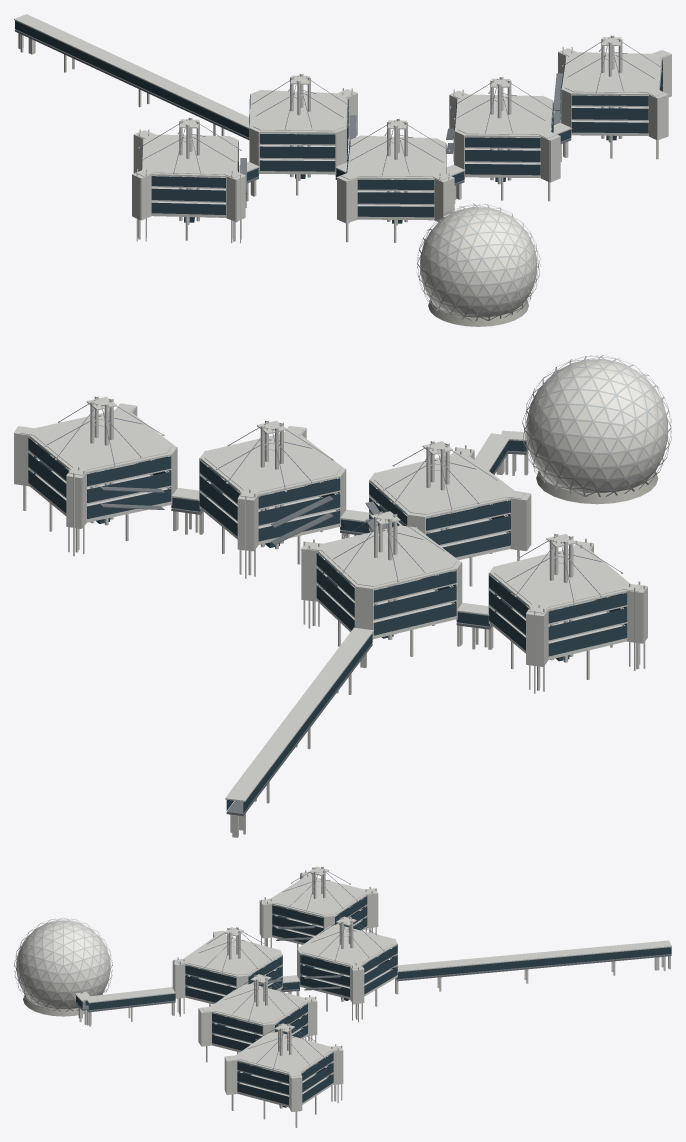
The model's file is cinesphere-far.glb.
3 renders of one model, top to bottom at view 1: azimuth 30°, elevation 25°; view 2: azimuth 150°, elevation 25°; view 3: azimuth 270°, elevation 25°, orthographic. The views are drawn at different scales.
Visible parts, largest first — view 1: cinesphere-0-white, cinesphere-0-glass, cinesphere-0-panel, cinesphere-0-frame, cinesphere-0-deck, cinesphere-0-cable, cinesphere-0-concrete; view 2: cinesphere-0-white, cinesphere-0-glass, cinesphere-0-panel, cinesphere-0-frame, cinesphere-0-deck, cinesphere-0-cable, cinesphere-0-concrete; view 3: cinesphere-0-white, cinesphere-0-glass, cinesphere-0-panel, cinesphere-0-frame, cinesphere-0-deck, cinesphere-0-cable, cinesphere-0-concrete.
Boxes of the visible parts, left/top/right/bottom form: cinesphere-0-white: left=14, top=14, right=671, bottom=245; cinesphere-0-glass: left=15, top=20, right=662, bottom=223; cinesphere-0-panel: left=420, top=207, right=537, bottom=317; cinesphere-0-frame: left=416, top=203, right=540, bottom=320; cinesphere-0-deck: left=15, top=29, right=571, bottom=207; cinesphere-0-cable: left=140, top=38, right=660, bottom=174; cinesphere-0-concrete: left=428, top=299, right=528, bottom=326; cinesphere-0-white: left=14, top=396, right=647, bottom=837; cinesphere-0-glass: left=28, top=437, right=627, bottom=812; cinesphere-0-panel: left=526, top=359, right=668, bottom=492; cinesphere-0-frame: left=522, top=355, right=671, bottom=496; cinesphere-0-deck: left=99, top=447, right=528, bottom=816; cinesphere-0-cable: left=47, top=400, right=621, bottom=603; cinesphere-0-concrete: left=536, top=471, right=658, bottom=504; cinesphere-0-white: left=75, top=866, right=671, bottom=1127; cinesphere-0-glass: left=76, top=896, right=671, bottom=1107; cinesphere-0-panel: left=16, top=920, right=110, bottom=1009; cinesphere-0-frame: left=14, top=918, right=112, bottom=1011; cinesphere-0-deck: left=76, top=926, right=671, bottom=1064; cinesphere-0-cable: left=199, top=868, right=382, bottom=1068; cinesphere-0-concrete: left=23, top=994, right=84, bottom=1016.
Bounding box in the file's own units: 178 × 32 × 239.
